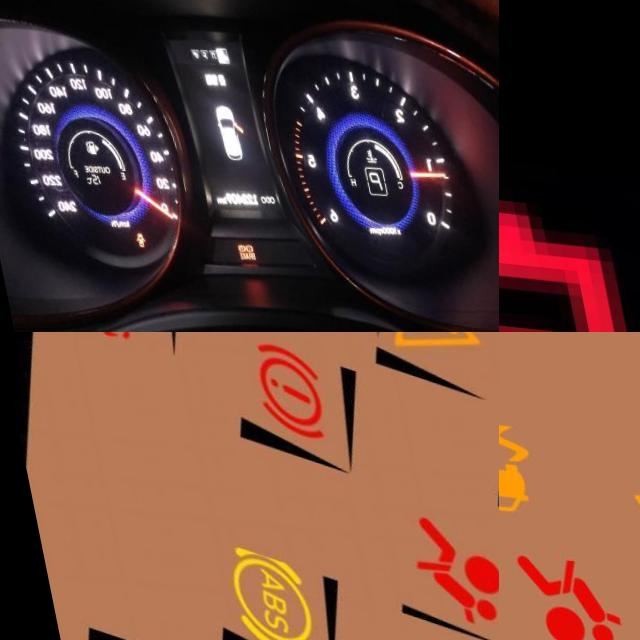Doors: (121, 229, 133, 244)
